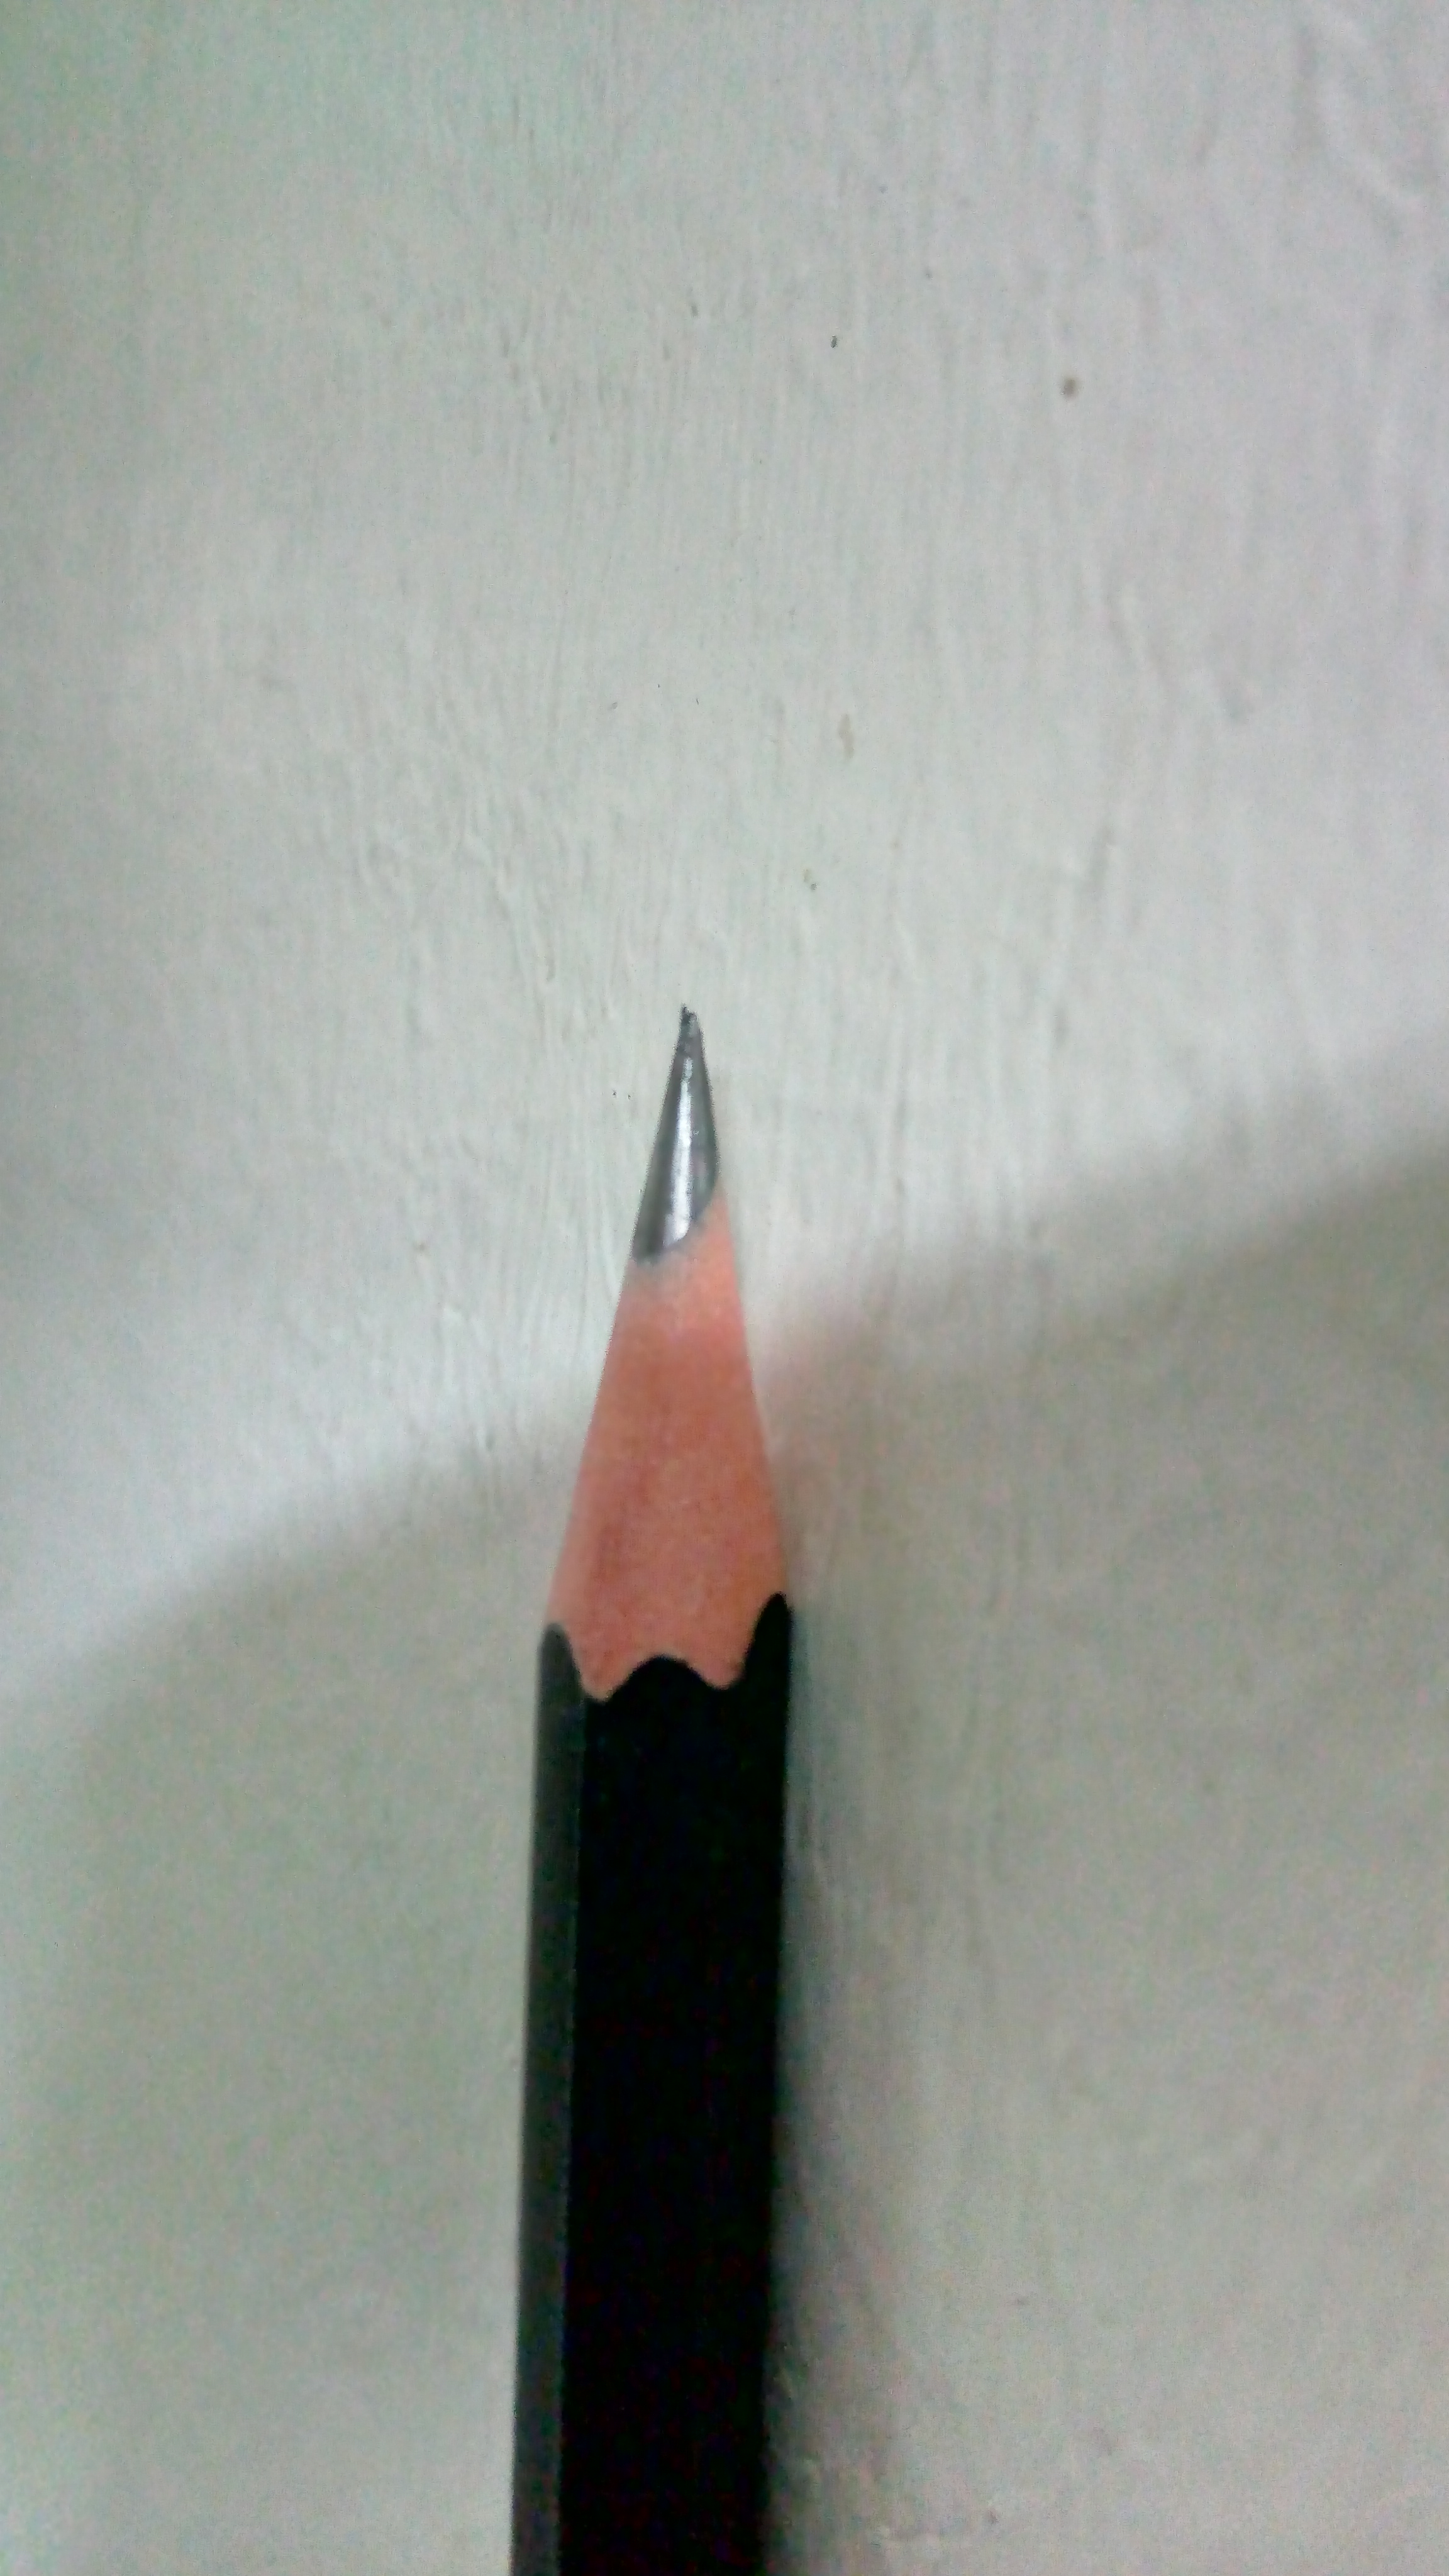pen_tip: (377, 931, 938, 1836)
